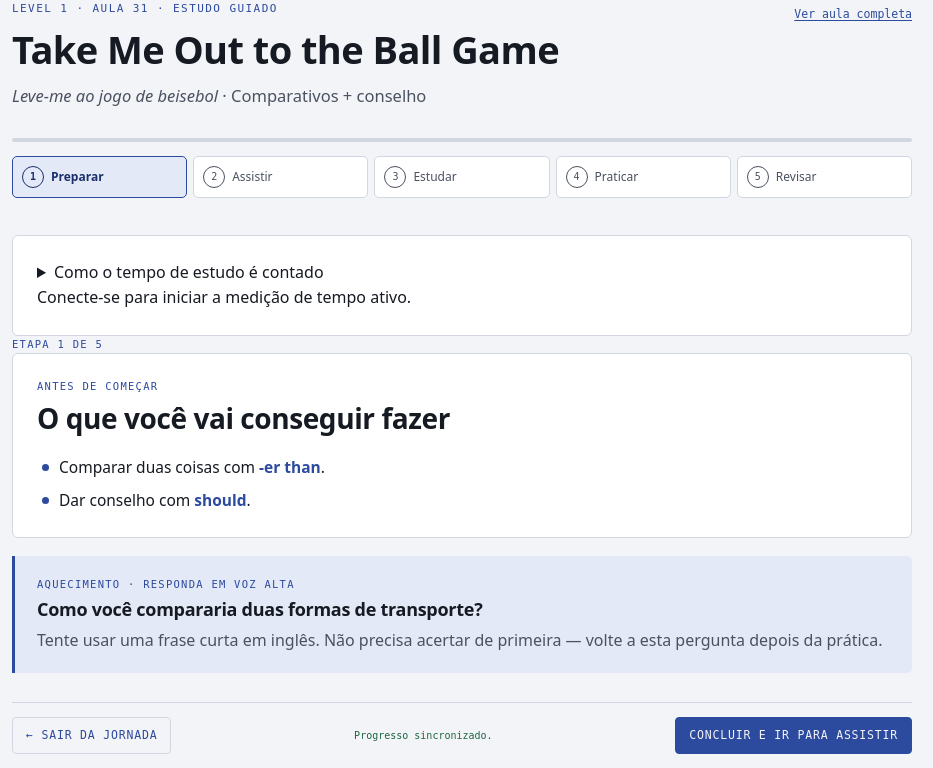
it: StudyPage › conclui a etapa, avança e persiste o ponto de retomada
Click the button "Concluir e ir para Assistir": x=794, y=736 [675,718,912,754]
(page scrolled)
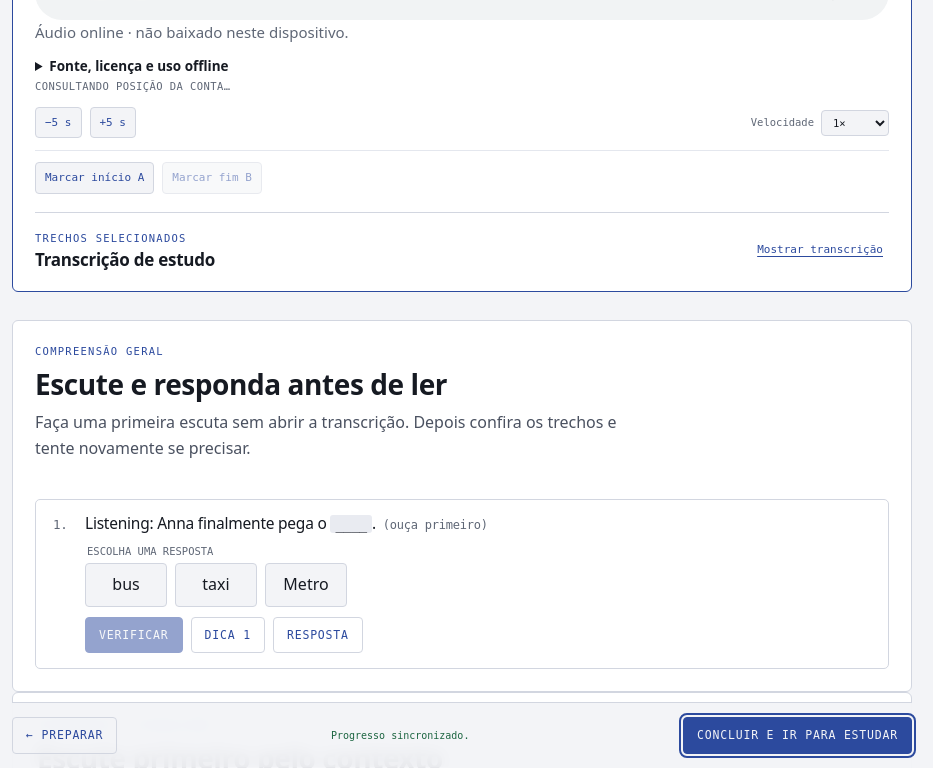
Check: the heading "Escute e responda antes de ler" is shown, box [35,365,447,403]
